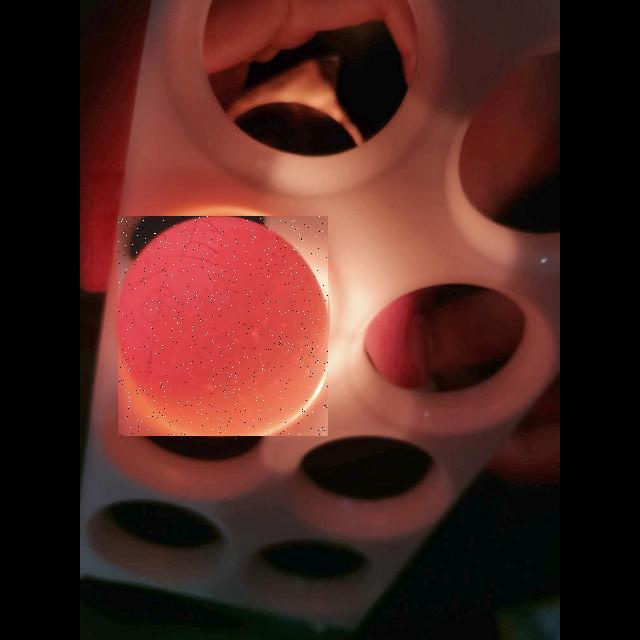B - Fair: (118, 216, 328, 436)
